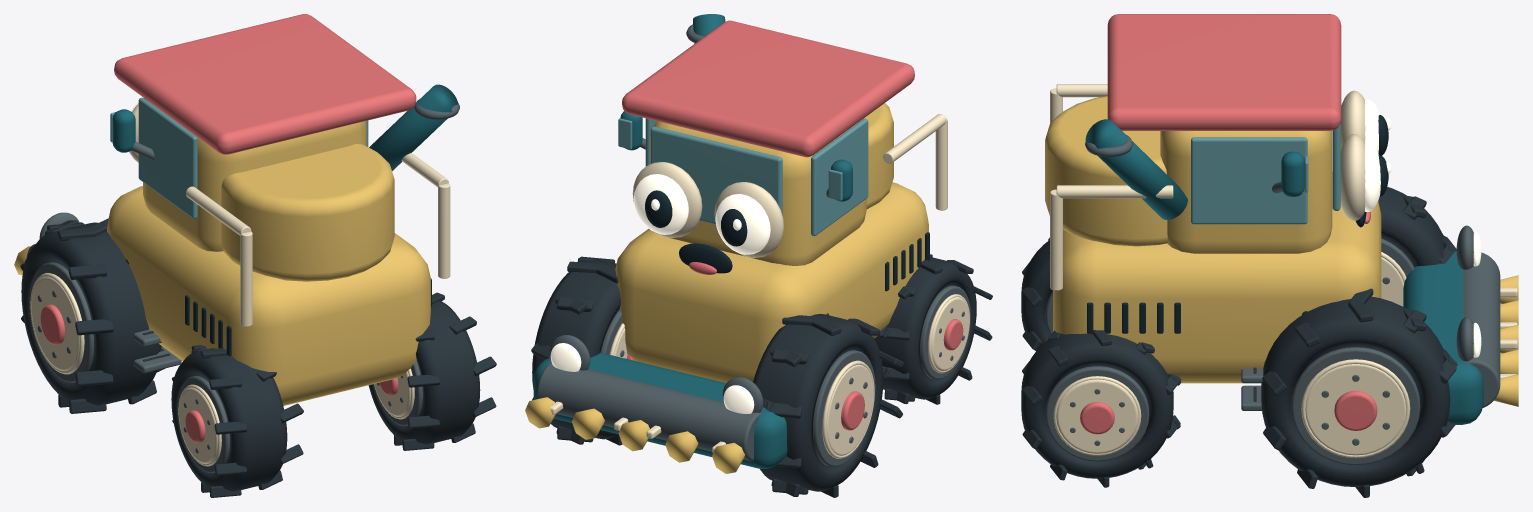
File: pipoca.glb
3 views of the same model, side by side, from view 1: azimuth 30°, elevation 25°; view 2: azimuth 150°, elevation 25°; view 3: azimuth 270°, elevation 25° (orthographic). The views are drawn at different scales.
Parts seen in each view (by area): view 1: Body, WheelFL, WheelRL, WheelRR; view 2: Body, WheelFL, WheelRL, Eyes, WheelFR; view 3: Body, WheelFR, WheelRR, Eyes, WheelFL, WheelRL.
Part boxes in pixels (x1,y1,x2,y2): Body: [14, 14, 459, 405]; WheelFL: [20, 218, 165, 413]; WheelRL: [171, 345, 303, 497]; WheelRR: [368, 292, 496, 450]; Body: [525, 14, 947, 473]; WheelFL: [753, 313, 903, 497]; WheelRL: [874, 254, 992, 404]; Eyes: [632, 162, 783, 257]; WheelFR: [531, 256, 634, 445]; Body: [1045, 14, 1518, 424]; WheelFR: [1261, 288, 1457, 497]; WheelRR: [1021, 330, 1181, 487]; Eyes: [1340, 90, 1391, 220]; WheelFL: [1378, 187, 1456, 306]; WheelRL: [1021, 237, 1052, 350].
Size of the model in its own units: 2.71 by 2.77 by 3.41.
